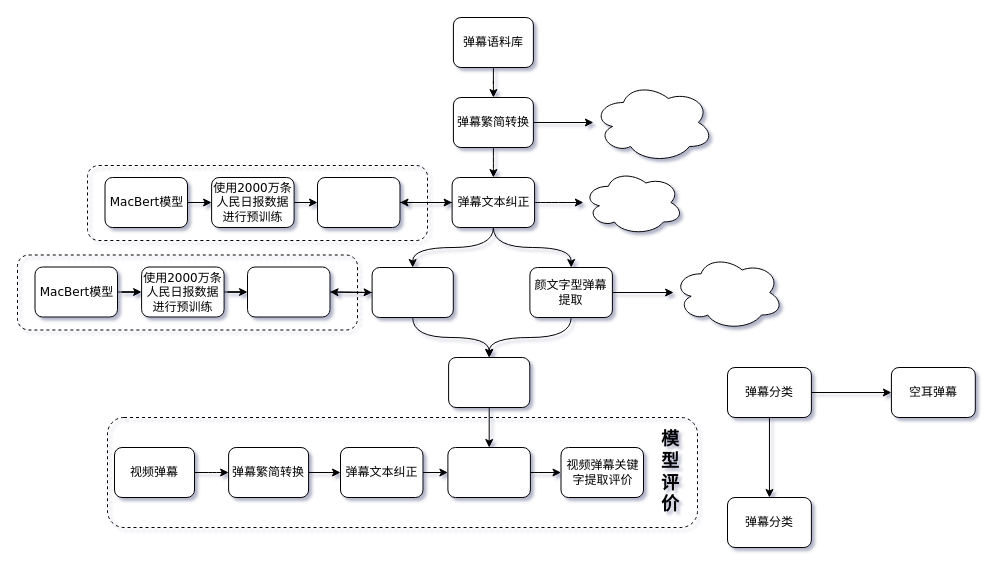
The diagram is 999 pixels wide and 571 high, and some of its shapes have lost their labels. Here are the shapes that lost their labels. From the top down, the centre of each, then its label:
(x=652, y=122): eg: 他總這樣→他总这样
(x=358, y=202): 语言模型
(x=632, y=202): eg: 奥利给→奥力给
(x=288, y=291): 弹幕文本纠正语言模型
(x=412, y=292): 弹幕 新词发现
(x=728, y=292): eg: ( ｡･ ω ･｡ )
(x=489, y=382): 弹幕词库
(x=488, y=472): 弹幕分词
